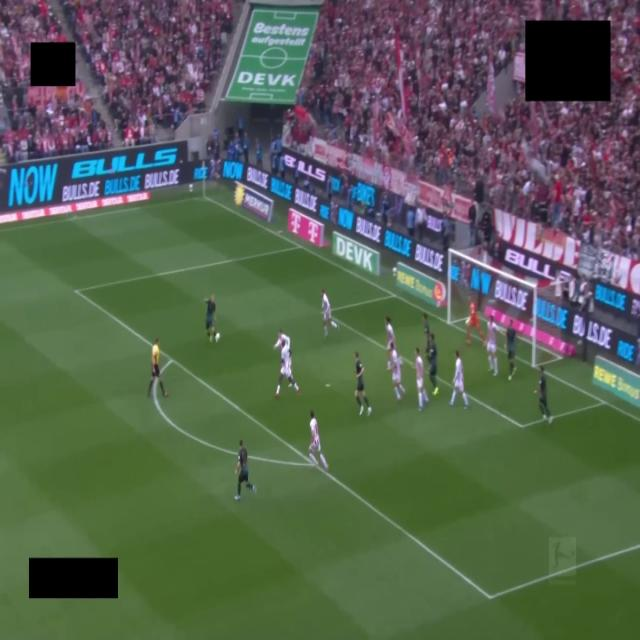ball: (215, 333, 219, 342)
player: (275, 338, 299, 398), (235, 440, 256, 500), (309, 411, 328, 470), (534, 365, 552, 424), (450, 351, 468, 408), (355, 352, 371, 415), (467, 297, 485, 345), (274, 329, 292, 375), (415, 348, 428, 411), (391, 344, 405, 401), (322, 289, 338, 337), (487, 315, 498, 375), (428, 334, 438, 395), (506, 320, 516, 380), (385, 317, 394, 369), (205, 295, 215, 341), (423, 312, 431, 357), (274, 329, 290, 350)
referee: (148, 339, 167, 396)
